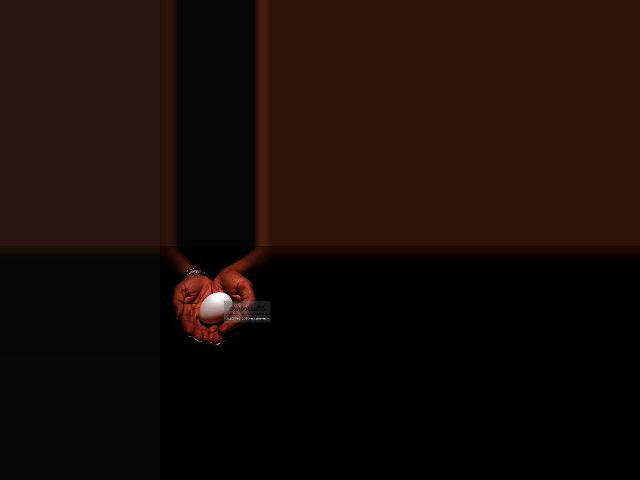egg: (198, 293, 231, 325)
